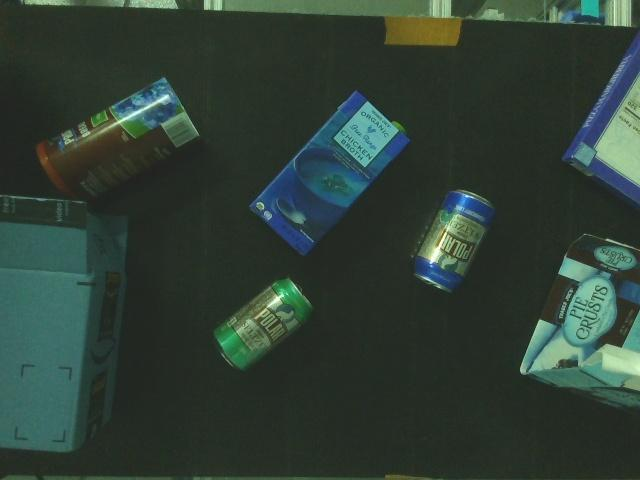cardboard: (0, 192, 133, 457), (244, 86, 416, 261), (515, 228, 640, 420), (33, 74, 203, 208), (559, 25, 640, 216)
metal: (208, 275, 318, 380), (409, 185, 500, 298)
